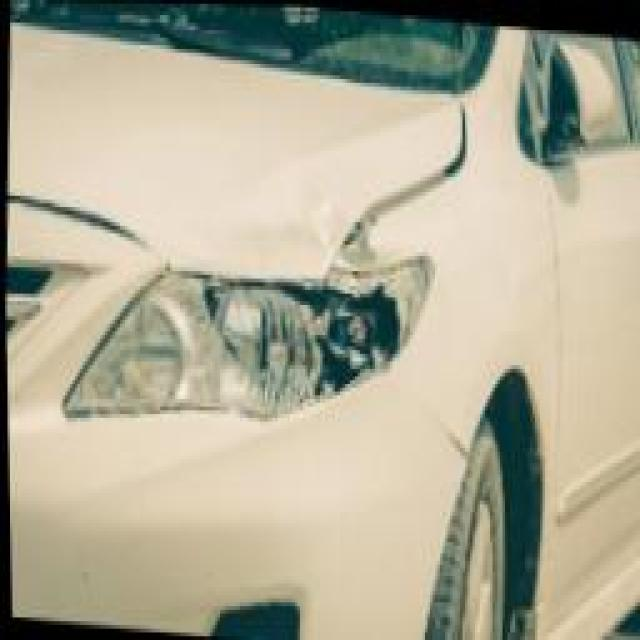Bonnet: (2, 38, 474, 309)
Light: (52, 222, 439, 458)
